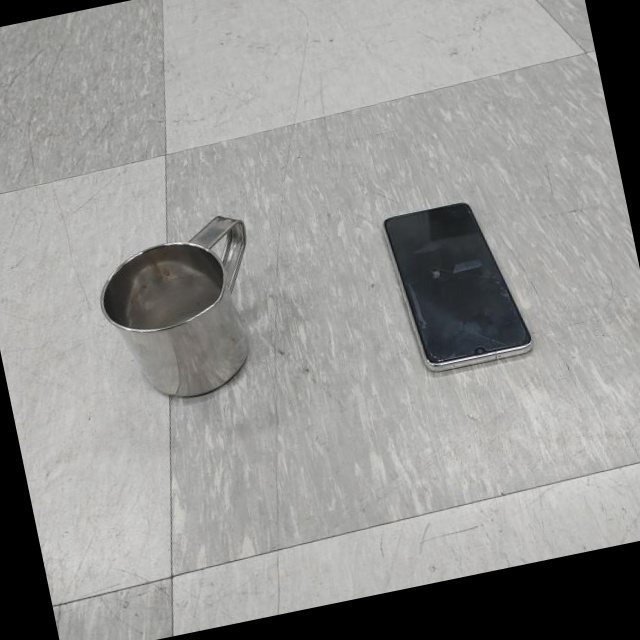cup: (91, 211, 276, 411)
phone: (380, 194, 537, 380)
